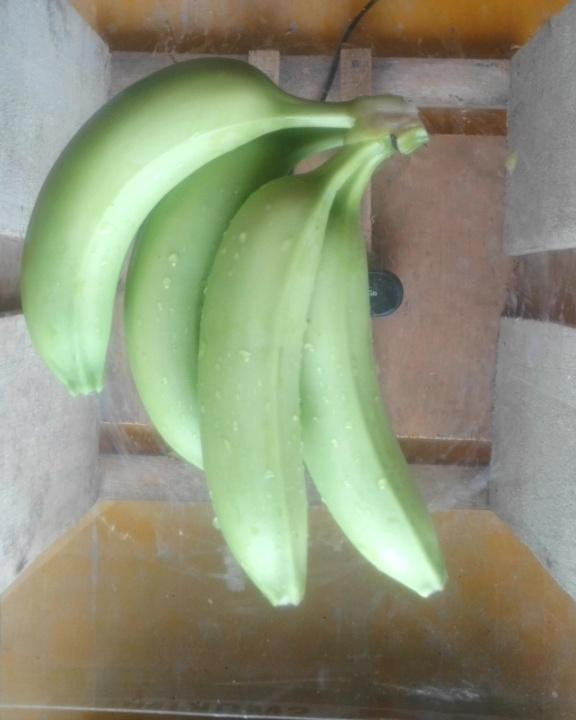SPOT: (18, 39, 503, 635)
